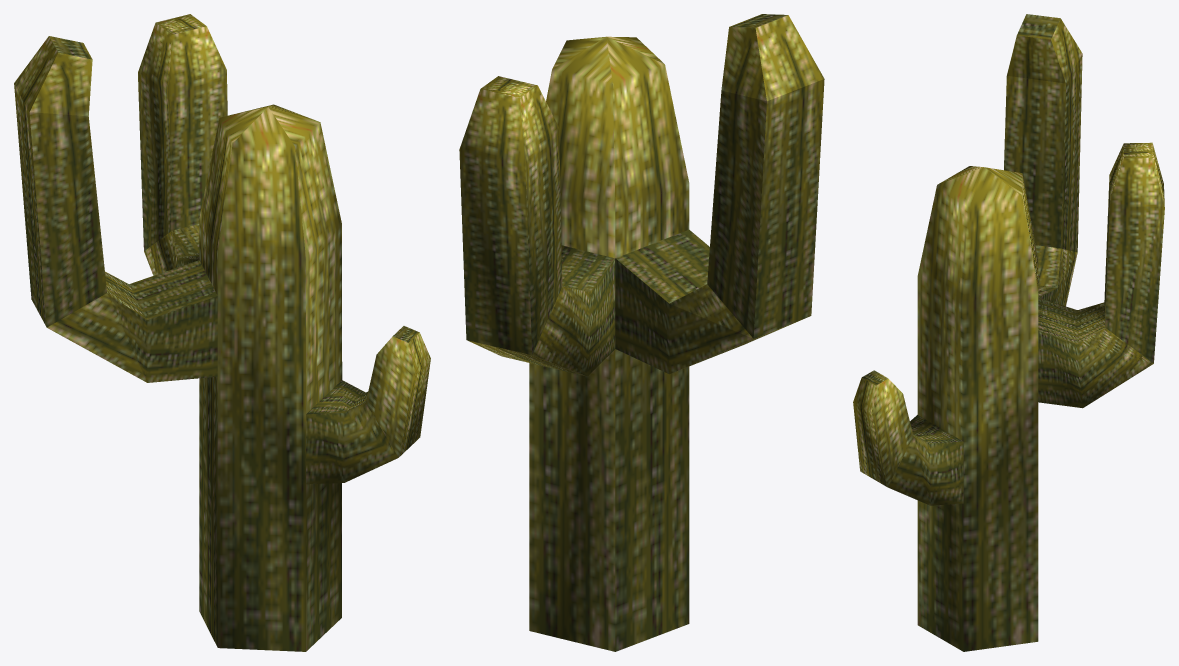
3 renders of one model, left to right at view 1: azimuth 30°, elevation 25°; view 2: azimuth 150°, elevation 25°; view 3: azimuth 270°, elevation 25°, orthographic. The views are drawn at different scales.
Visible parts, largest first — view 1: SMDImport; view 2: SMDImport; view 3: SMDImport.
Boxes of the visible parts, box(x1,y1,x2,y2) form: SMDImport: box(14, 14, 430, 651); SMDImport: box(459, 14, 824, 651); SMDImport: box(853, 14, 1164, 651).
Size of the model in its own units: 64.69 by 117 by 62.37.
